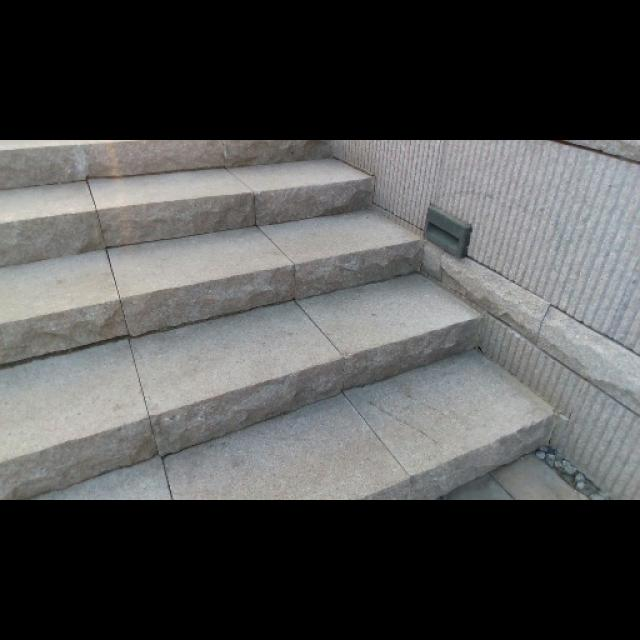Stairs: (0, 142, 569, 500)
